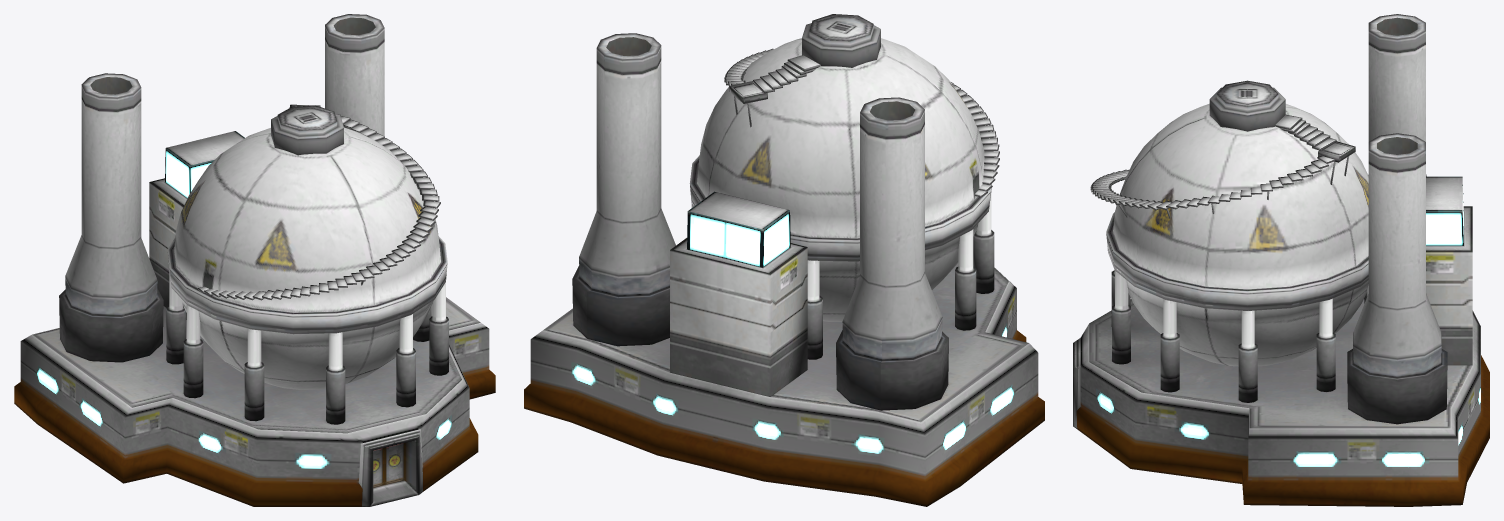
The model's file is UPLExhumer.glb.
3 renders of one model, left to right at view 1: azimuth 30°, elevation 25°; view 2: azimuth 150°, elevation 25°; view 3: azimuth 270°, elevation 25°, orthographic. The views are drawn at different scales.
Visible parts, largest first — view 1: default; view 2: default; view 3: default.
Boxes of the visible parts, left/top/right/bottom form: default: left=14, top=14, right=495, bottom=506; default: left=524, top=14, right=1044, bottom=506; default: left=1073, top=14, right=1489, bottom=506.
Size of the model in its own units: 3.06 by 2.51 by 2.89.
1 material, 1 textured.
